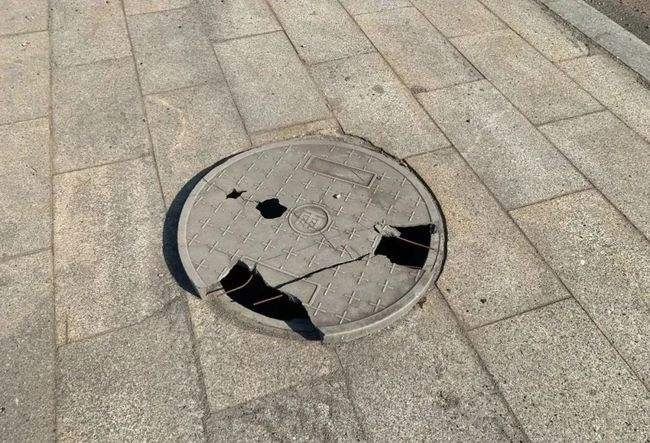broke: (177, 138, 444, 345)
